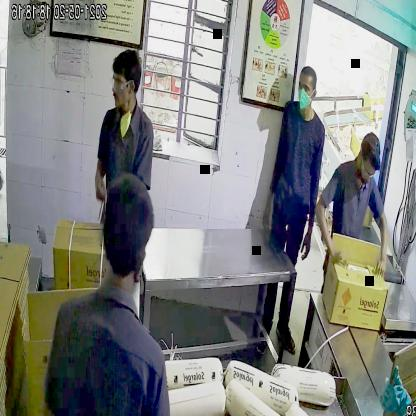goggles: (110, 74, 138, 92), (358, 160, 381, 180)
no_goggles: (291, 80, 320, 98)
